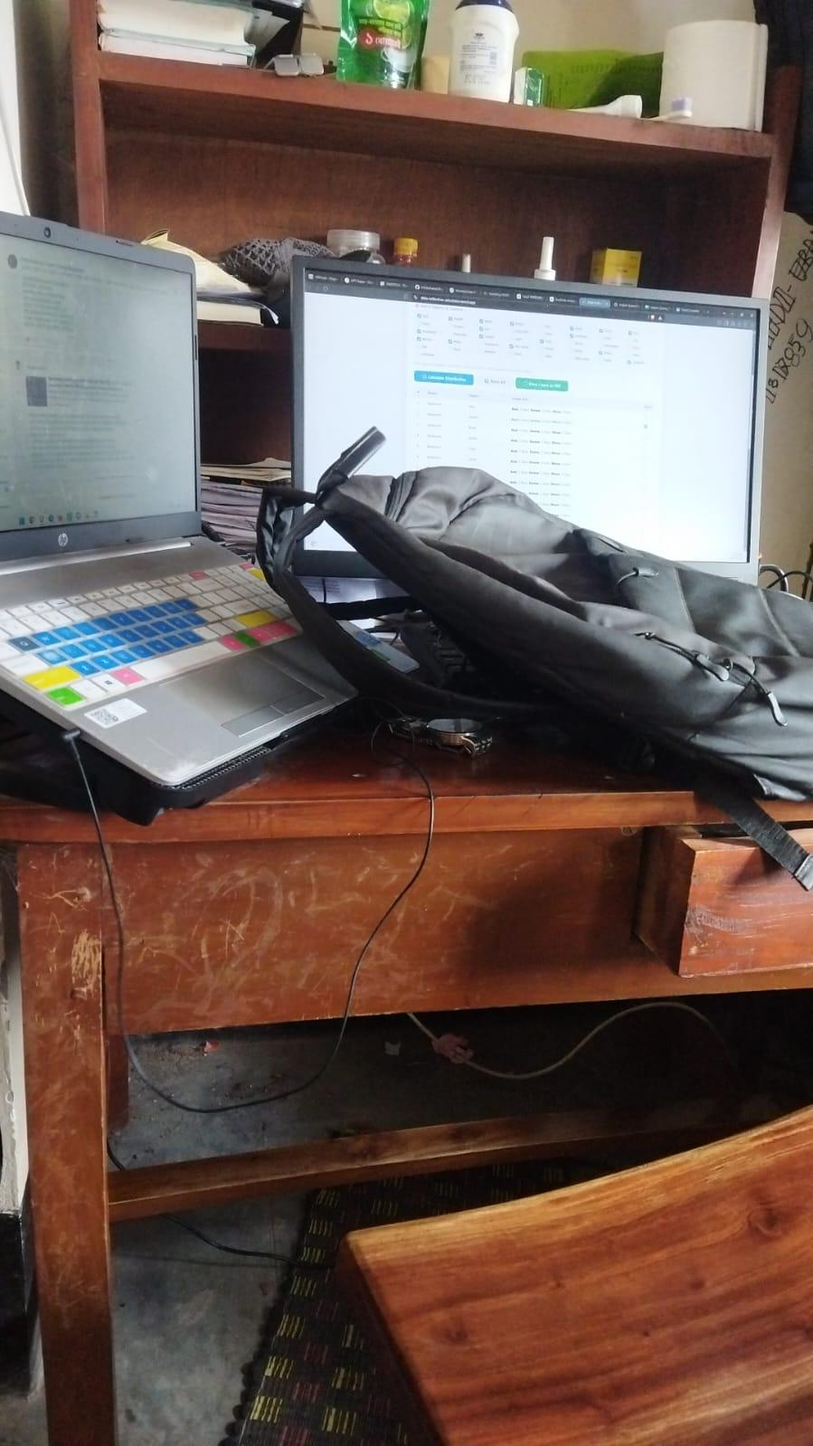Bag: (248, 441, 813, 785)
Chair: (357, 1062, 791, 1446)
Drawer: (623, 816, 813, 999)
Floor Mat: (210, 1121, 523, 1419)
Laptop: (11, 233, 384, 812)
Monitor: (281, 243, 783, 598)
Table: (31, 571, 813, 1444)
